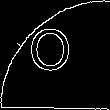O_S: (32, 28, 78, 82)
